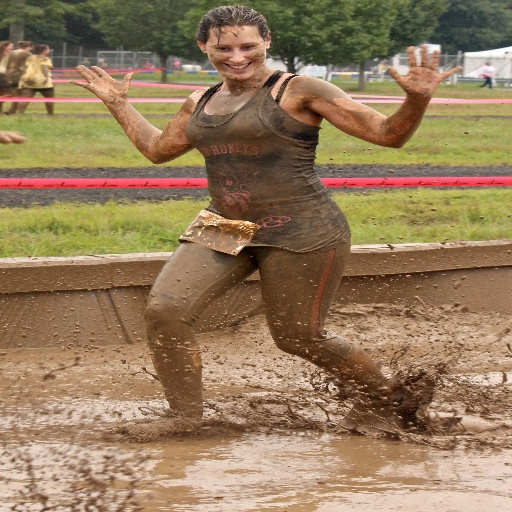hand: (387, 43, 464, 97), (66, 55, 137, 101), (0, 129, 26, 144), (42, 77, 47, 84)
